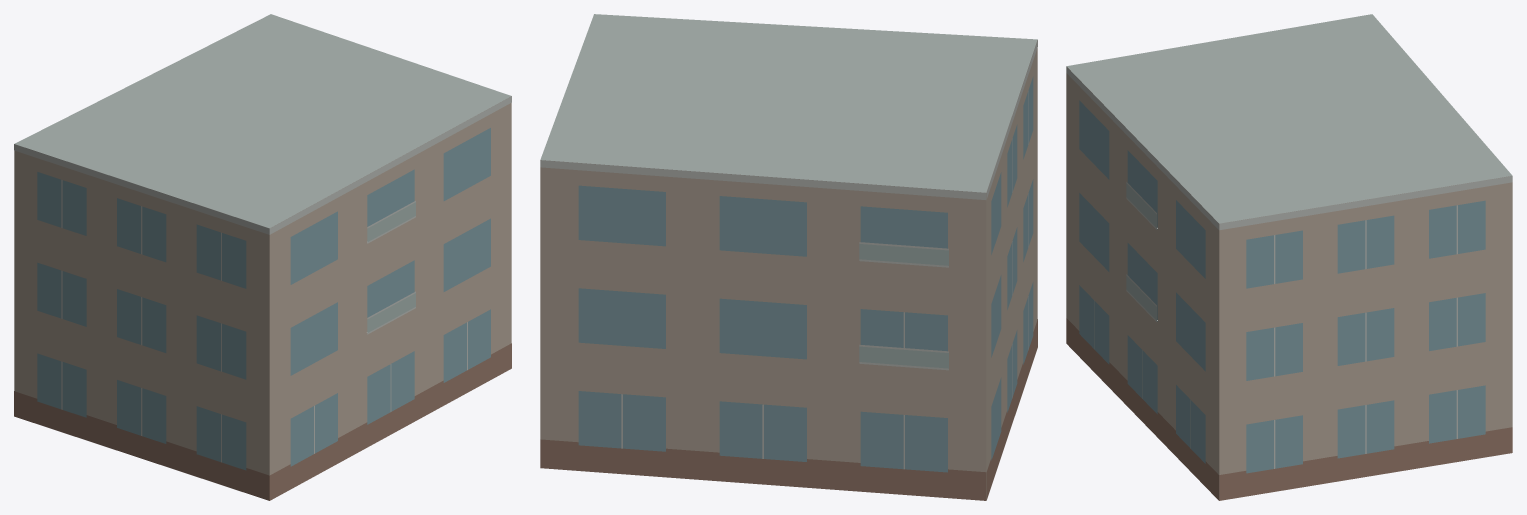
File: survey-upis-32938726.glb
3 views of the same model, side by side, from view 1: azimuth 30°, elevation 25°; view 2: azimuth 150°, elevation 25°; view 3: azimuth 270°, elevation 25° (orthographic). The views are drawn at different scales.
Visible parts, largest first — view 1: survey-upis-32938726.tmp; view 2: survey-upis-32938726.tmp; view 3: survey-upis-32938726.tmp.
Part boxes in pixels (left/top/right/bottom): survey-upis-32938726.tmp: left=14, top=14, right=511, bottom=500; survey-upis-32938726.tmp: left=540, top=14, right=1037, bottom=500; survey-upis-32938726.tmp: left=1066, top=14, right=1512, bottom=500.
Bounding box in the file's own units: 16.56 × 10.2 × 14.89.
